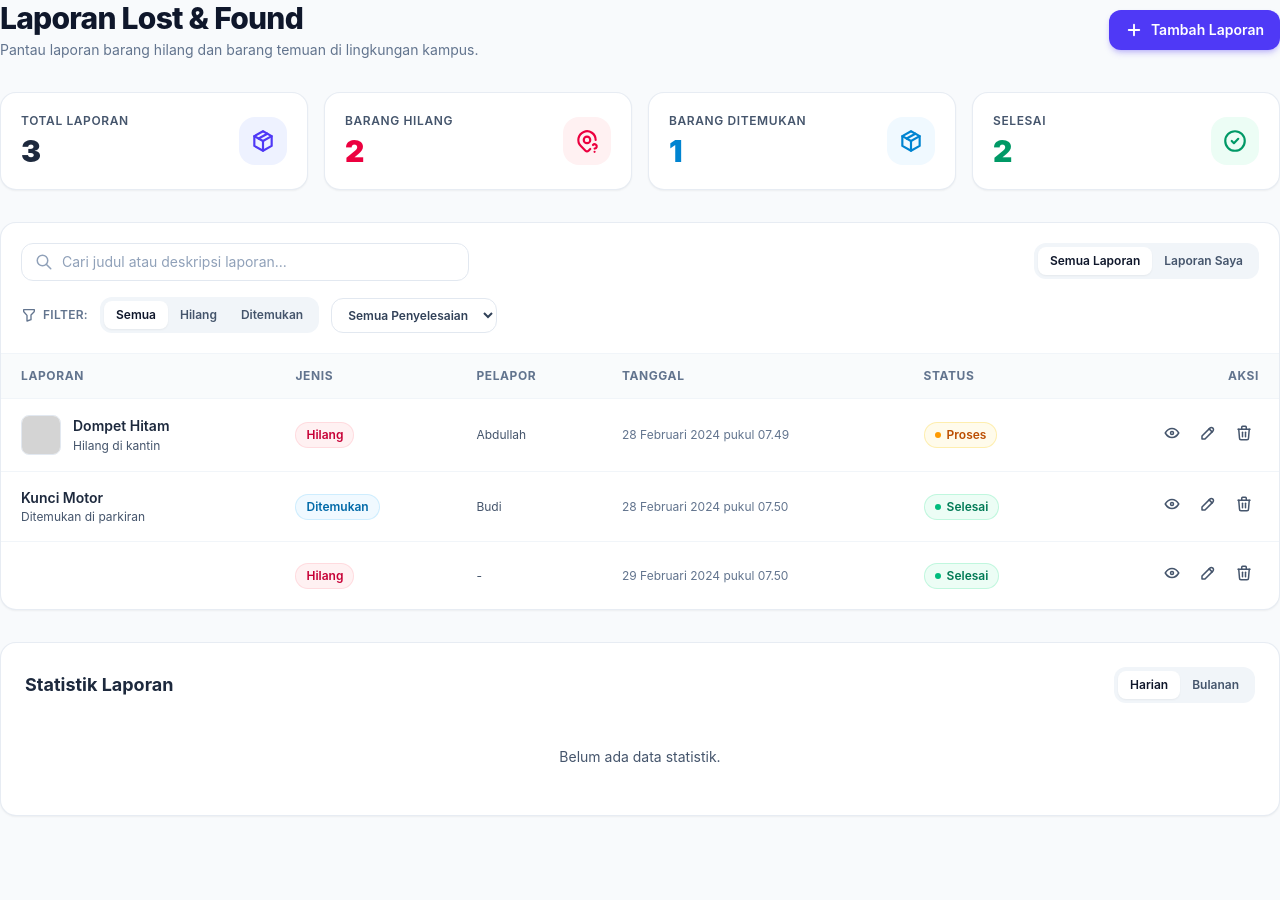
Test: HomePage › should open the add modal and close it
The width and height of the screenshot is (1280, 900).
Click the button with test id "add-lost-found-btn": (1194, 30) [1109, 10, 1279, 50]
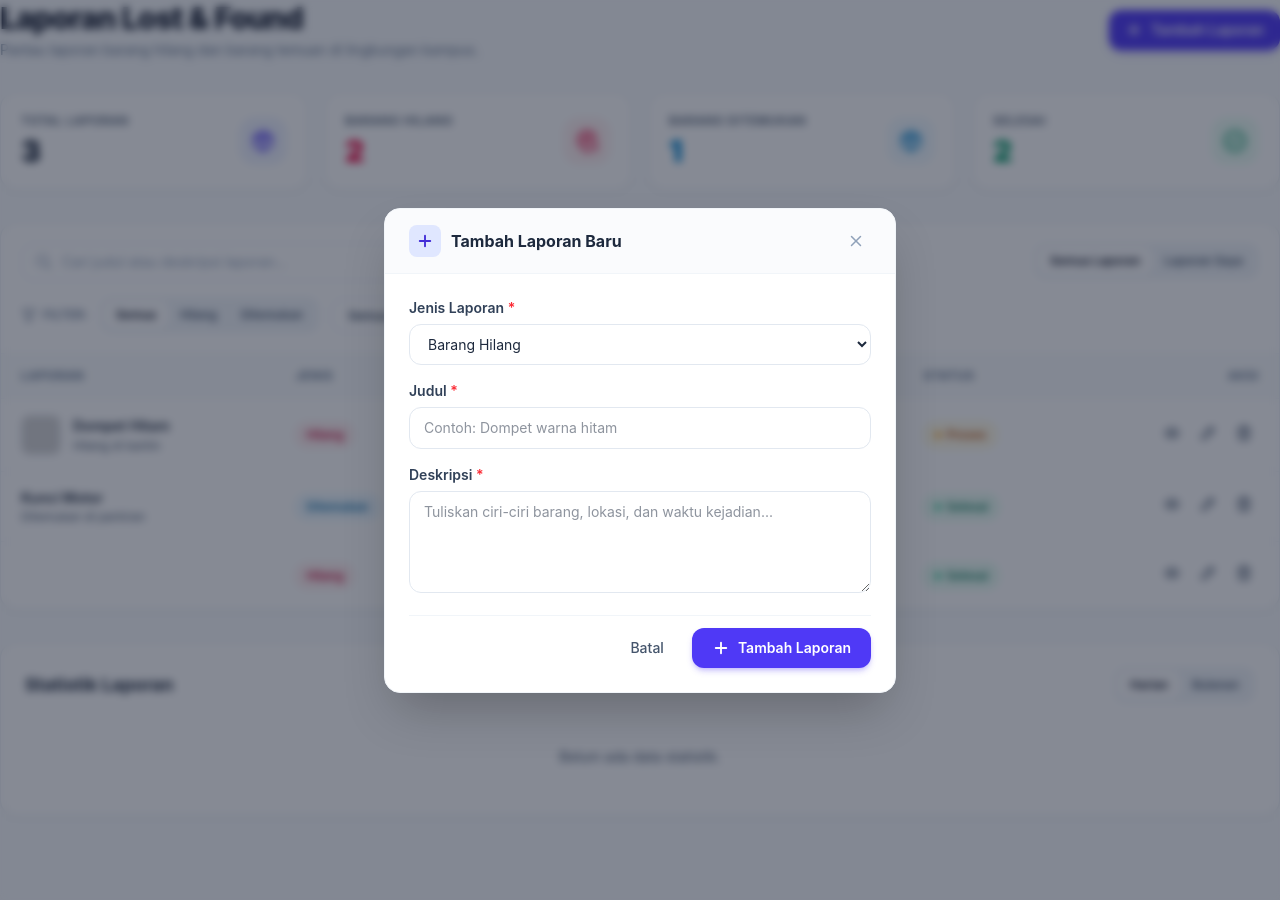
Expected: the element with test id "add-lost-found-modal" is shown
Click the button with test id "close-add-modal-btn": (856, 240) [841, 226, 871, 256]
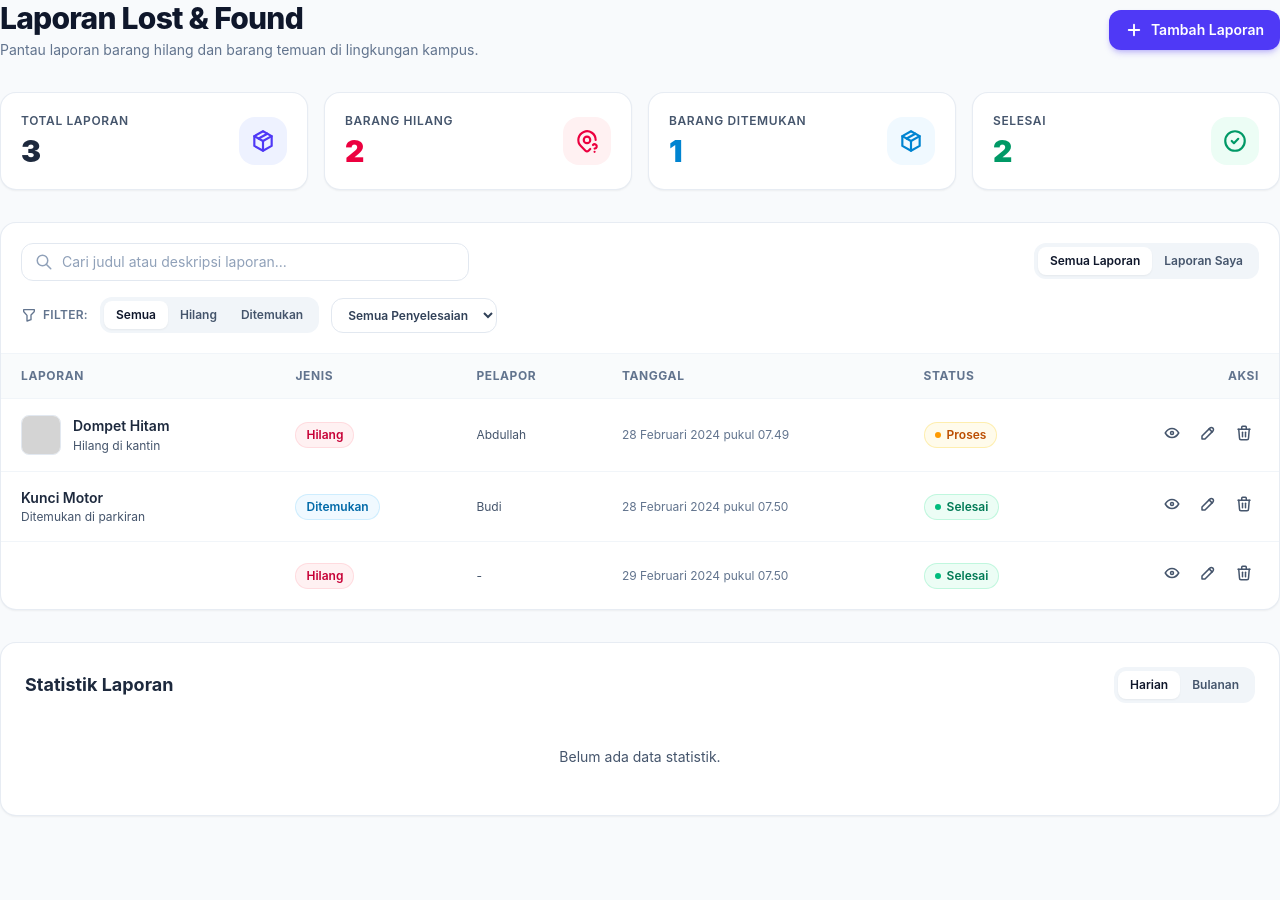
Expected: the element with test id "add-lost-found-modal" is gone
